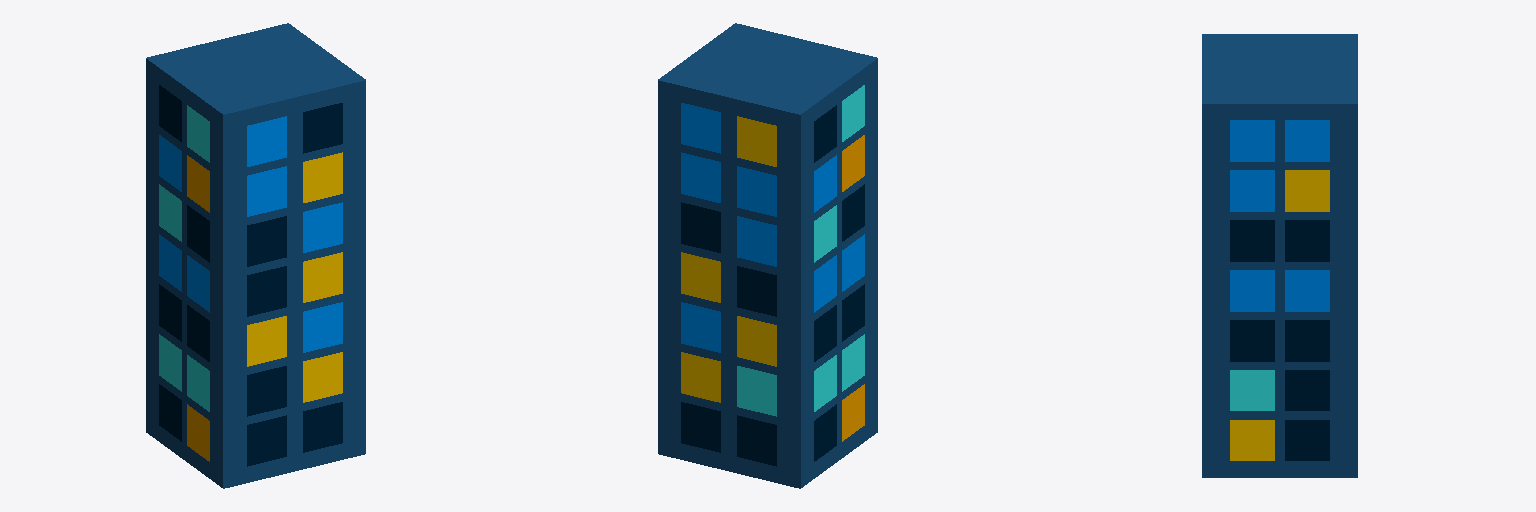
3 renders of one model, left to right at view 1: azimuth 30°, elevation 25°; view 2: azimuth 150°, elevation 25°; view 3: azimuth 270°, elevation 25°, orthographic.
Size of the model in its own units: 18 by 45 by 17.
1 materials, 1 textured.